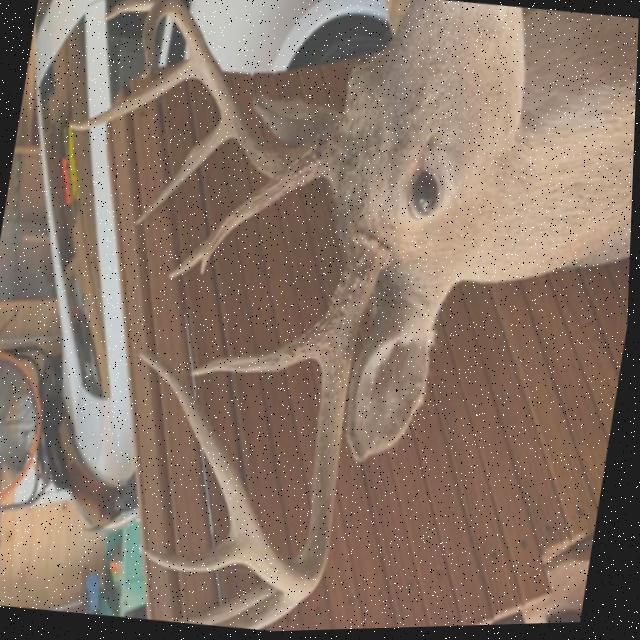E1: (201, 251, 214, 276)
E3: (101, 0, 161, 22)
L-F: (139, 0, 329, 180)
L-G1: (167, 160, 313, 280)
L-G2: (134, 121, 231, 226)
L-G3: (66, 59, 195, 131)
R-F: (138, 235, 392, 603)
R-G1: (192, 320, 323, 378)
R-G3: (217, 594, 304, 631)
R-G4: (147, 536, 244, 574)
